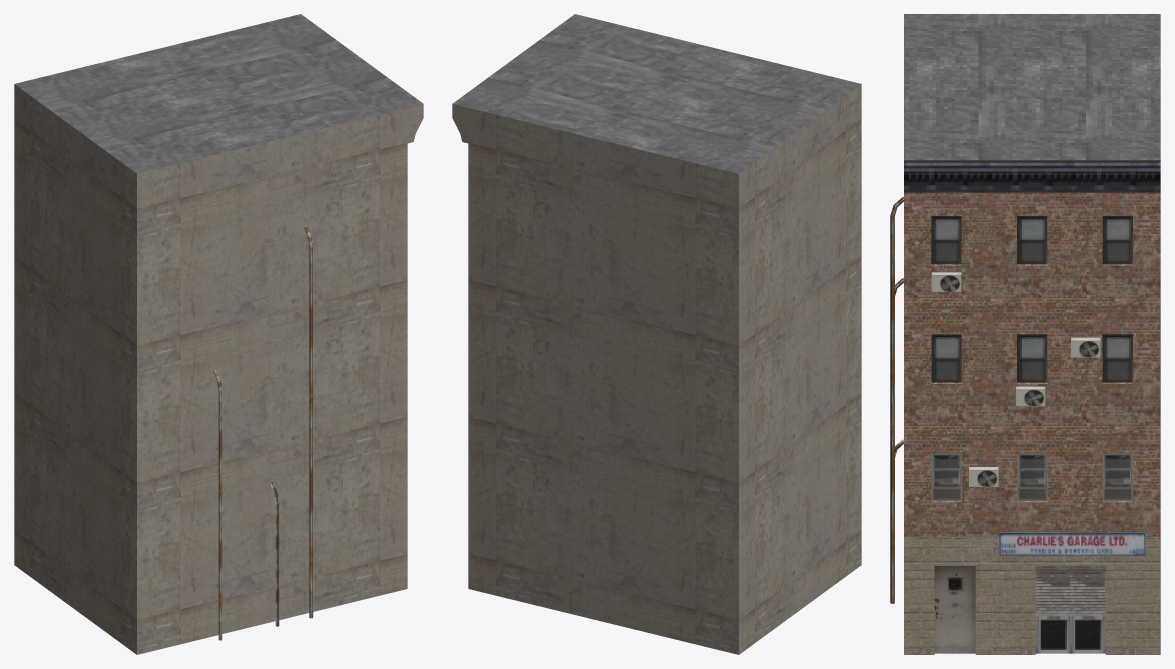
The model's file is PSX Apartment.fbx.
The picture shows the model from 3 angles, left to right: view 1: azimuth 30°, elevation 25°; view 2: azimuth 150°, elevation 25°; view 3: azimuth 270°, elevation 25°; orthographic projection. The views are drawn at different scales.
Visible parts, largest first — view 1: PSX Apartment; view 2: PSX Apartment; view 3: PSX Apartment.
Part boxes in pixels (x1=…): PSX Apartment: x1=14, y1=14, x2=423, y2=654; PSX Apartment: x1=452, y1=14, x2=861, y2=654; PSX Apartment: x1=890, y1=14, x2=1160, y2=654.
Size of the model in its own units: 530 by 850 by 414.
Materials: 12 (12 with a texture image).
